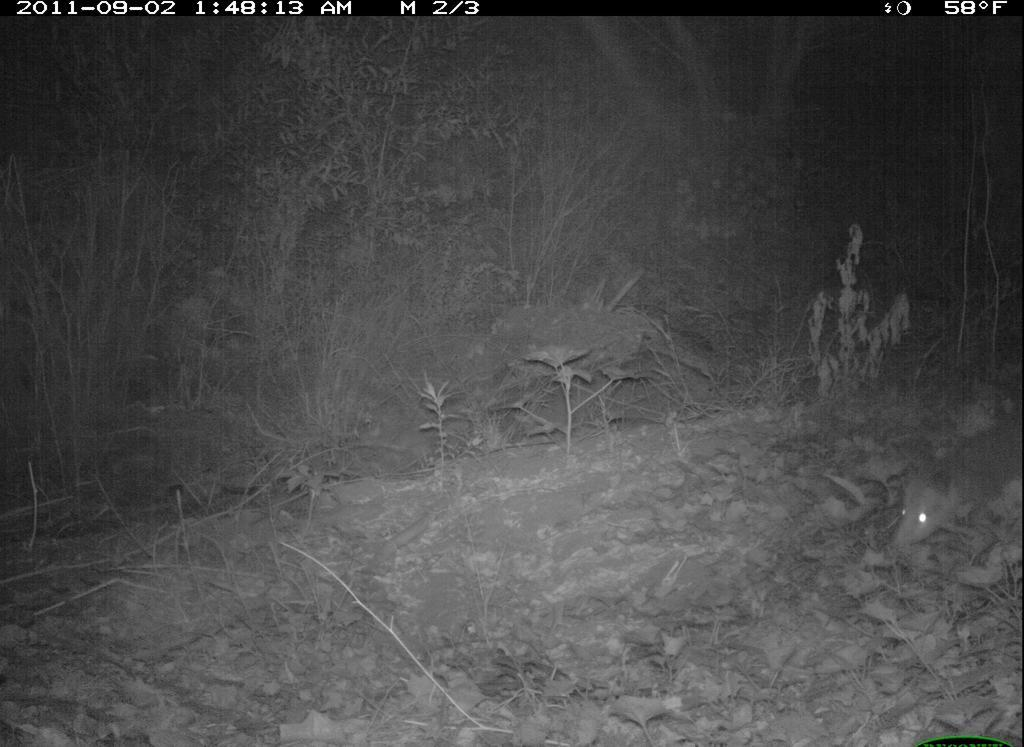opossum: (894, 417, 1016, 565)
